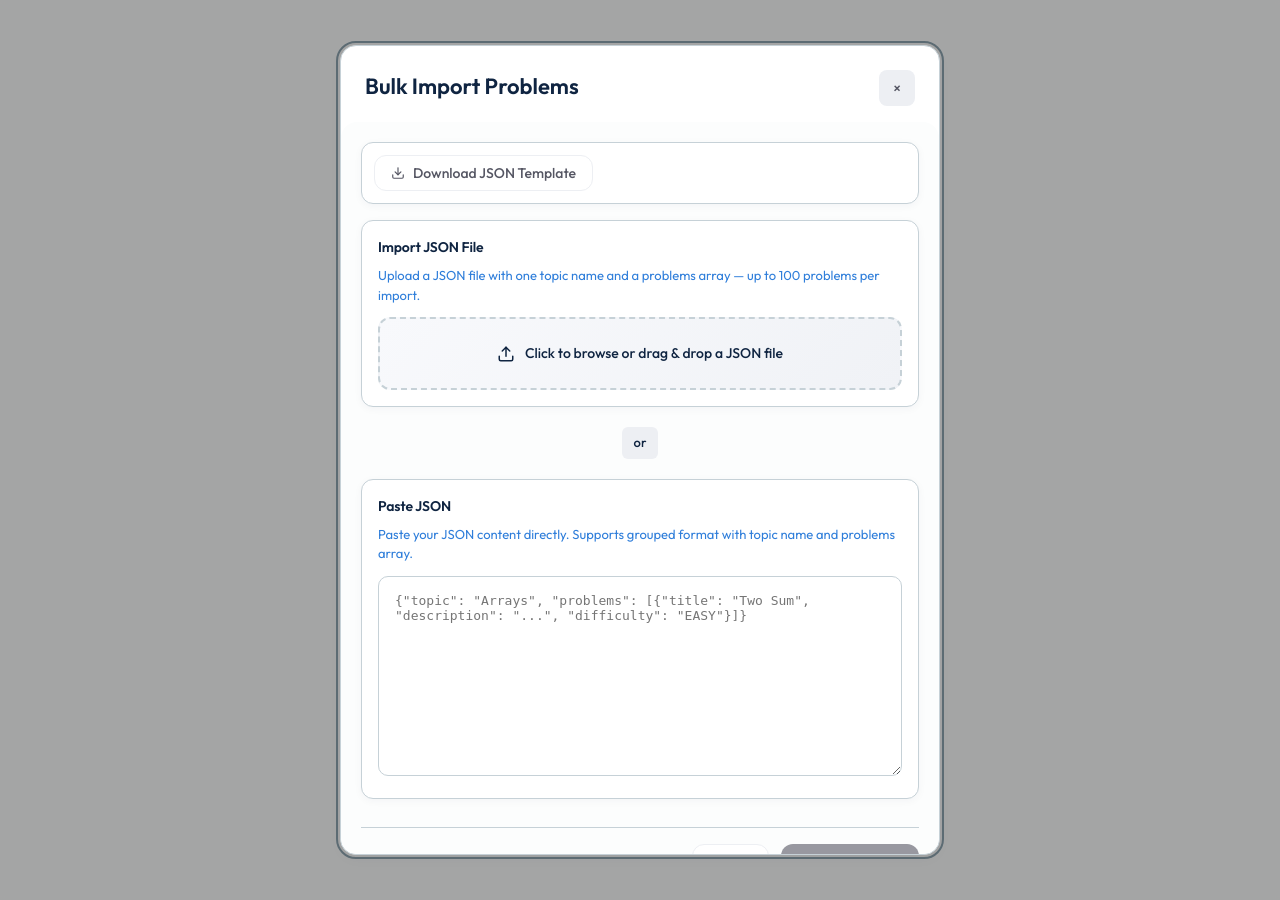
a payload that is neither an array nor an object is rejected before any request
Replace the text in the text box with id "trainer-import-text" with "\"just a string\"": (640, 676) [378,576,902,776]
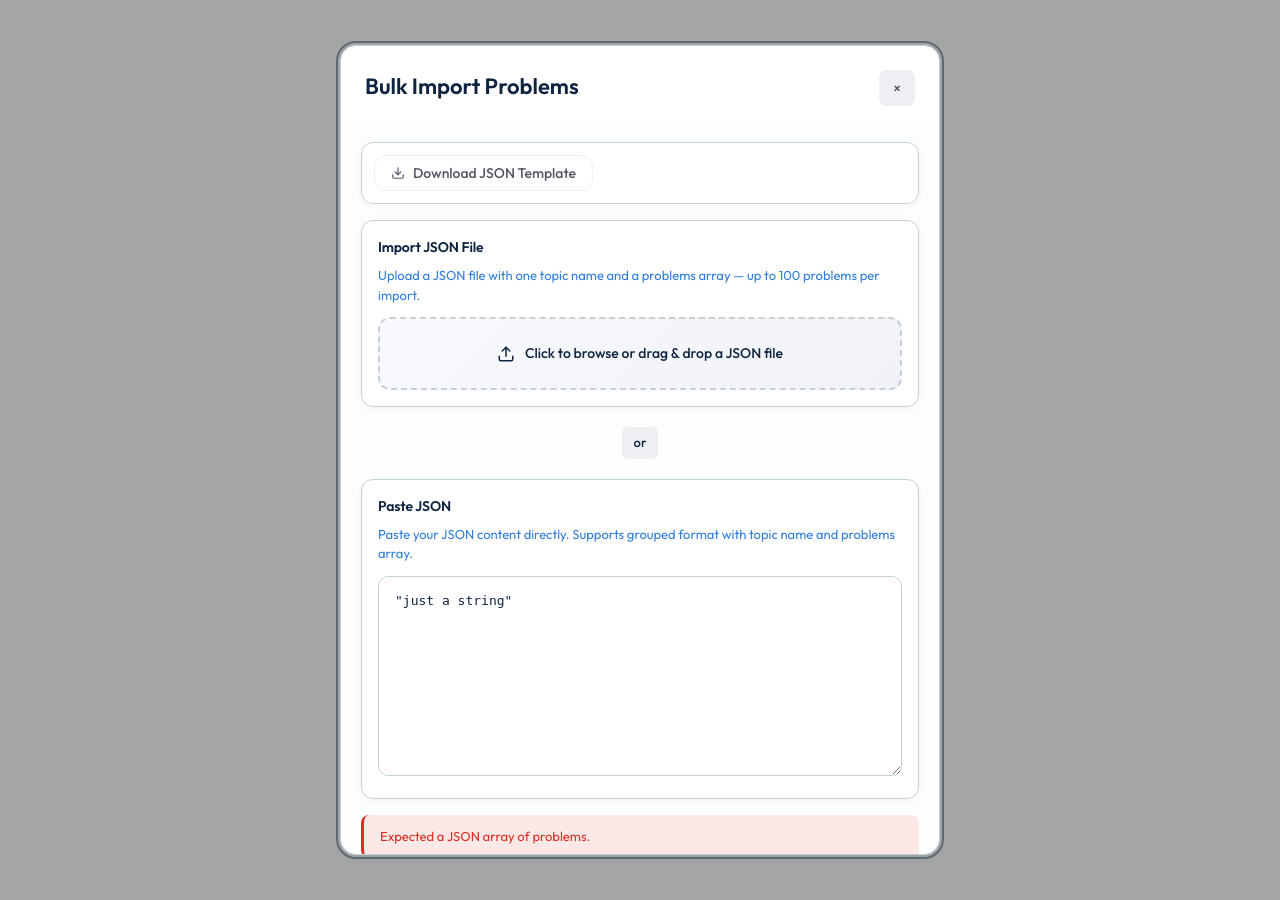
Result: the text "Expected a JSON array of problems." is shown at [361,814,919,854]
